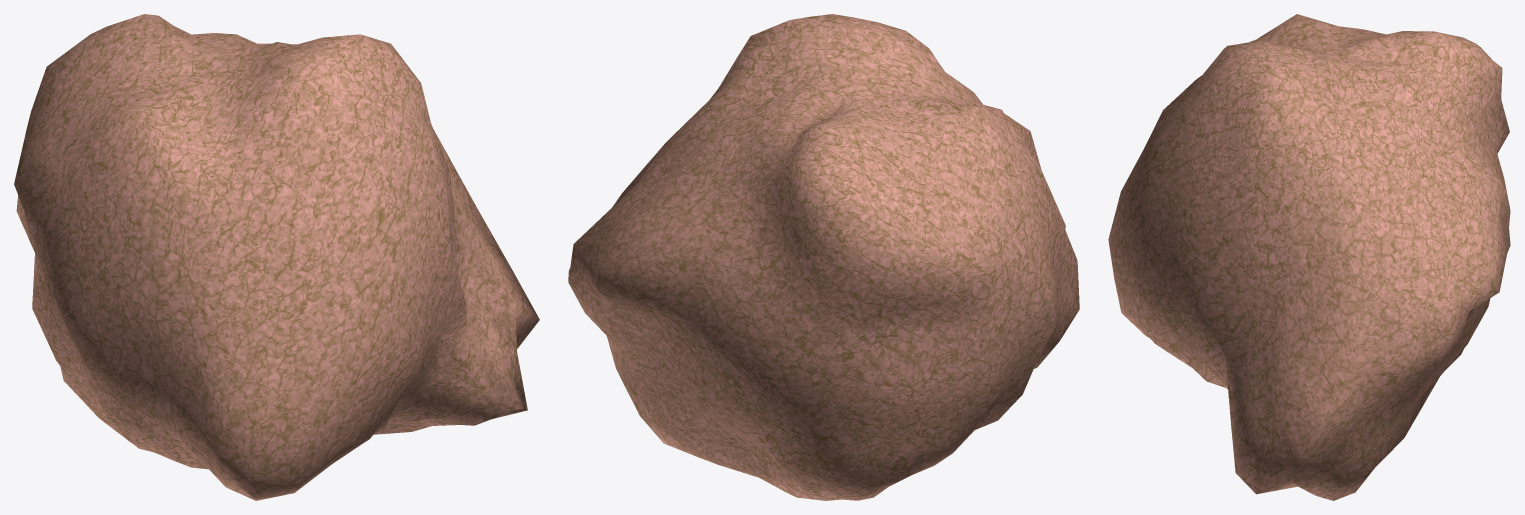
File: Wulkan_col_Skala.fbx
3 renders of one model, left to right at view 1: azimuth 30°, elevation 25°; view 2: azimuth 150°, elevation 25°; view 3: azimuth 270°, elevation 25°, orthographic. The views are drawn at different scales.
Visible parts, largest first — view 1: Sphere; view 2: Sphere; view 3: Sphere.
Part boxes in pixels (x1,y1,x2,y2): Sphere: [14, 14, 539, 500]; Sphere: [568, 14, 1079, 500]; Sphere: [1108, 14, 1510, 500].
Size of the model in its own units: 259 by 229 by 215.
